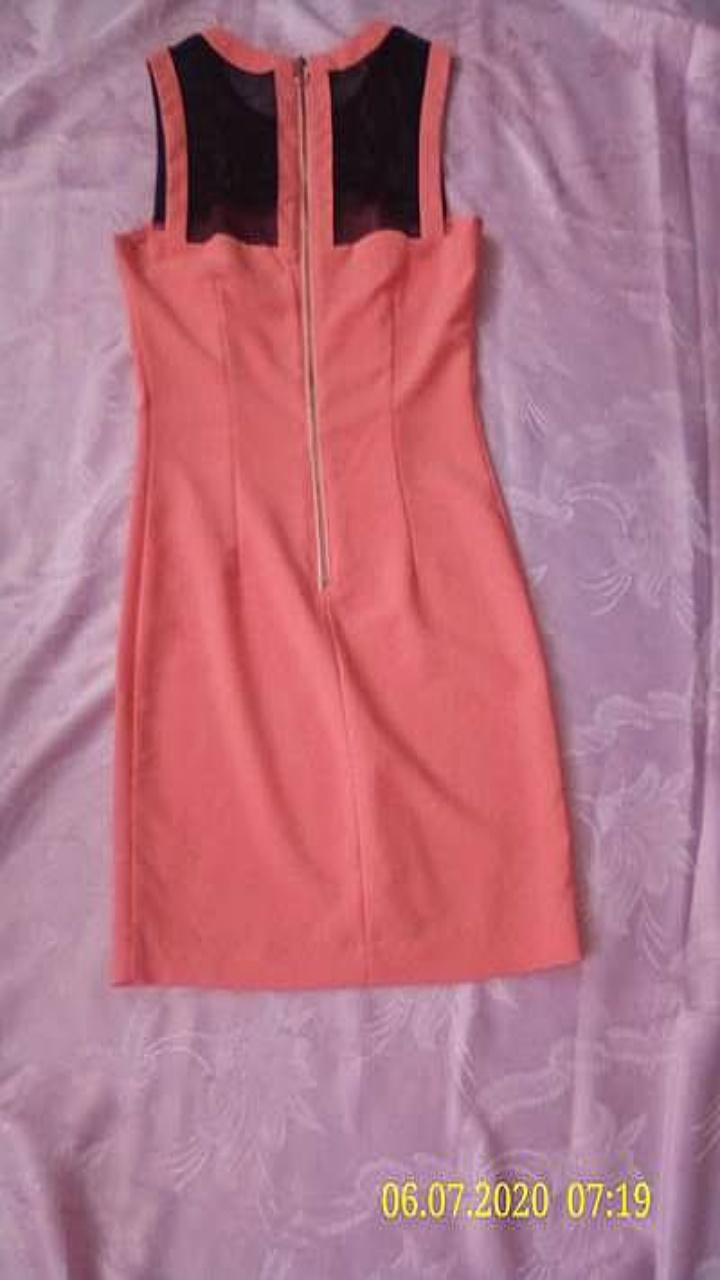Dresses: (111, 20, 581, 988)
